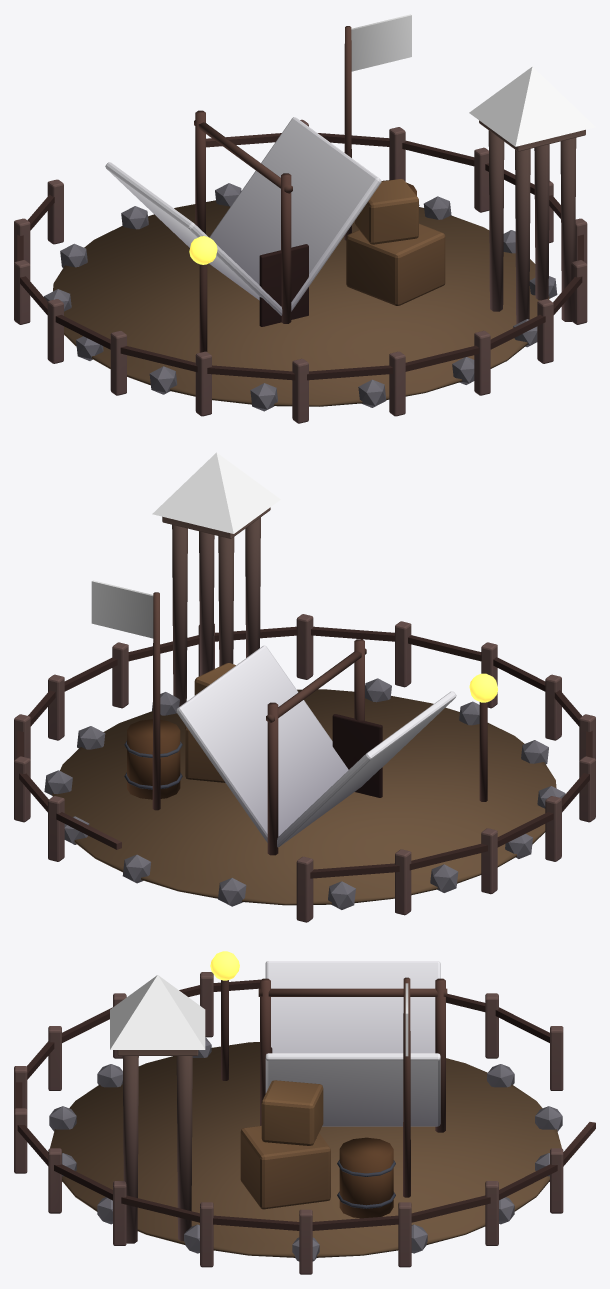
The model's file is camp_3.glb.
3 views of the same model, one above another, from view 1: azimuth 30°, elevation 25°; view 2: azimuth 150°, elevation 25°; view 3: azimuth 270°, elevation 25° (orthographic). The views are drawn at different scales.
Parts seen in each view (by area): view 1: camp_3, team, flag, lantern; view 2: camp_3, team, flag, lantern; view 3: camp_3, team, lantern.
Boxes of the visible parts, left/top/right/bottom form: camp_3: left=14, top=26, right=587, bottom=423; team: left=105, top=66, right=595, bottom=315; flag: left=351, top=14, right=411, bottom=71; lantern: left=189, top=236, right=217, bottom=264; camp_3: left=14, top=507, right=595, bottom=922; team: left=152, top=452, right=456, bottom=847; flag: left=91, top=580, right=153, bottom=638; lantern: left=469, top=673, right=497, bottom=702; camp_3: left=14, top=972, right=595, bottom=1274; team: left=110, top=961, right=440, bottom=1126; lantern: left=210, top=951, right=239, bottom=980.
Size of the model in its own units: 4.4 by 2.16 by 4.32.
